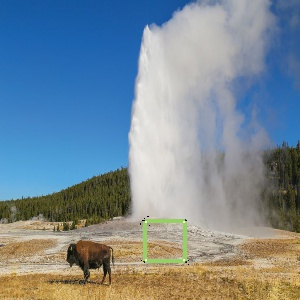square: (140, 215, 189, 264)
